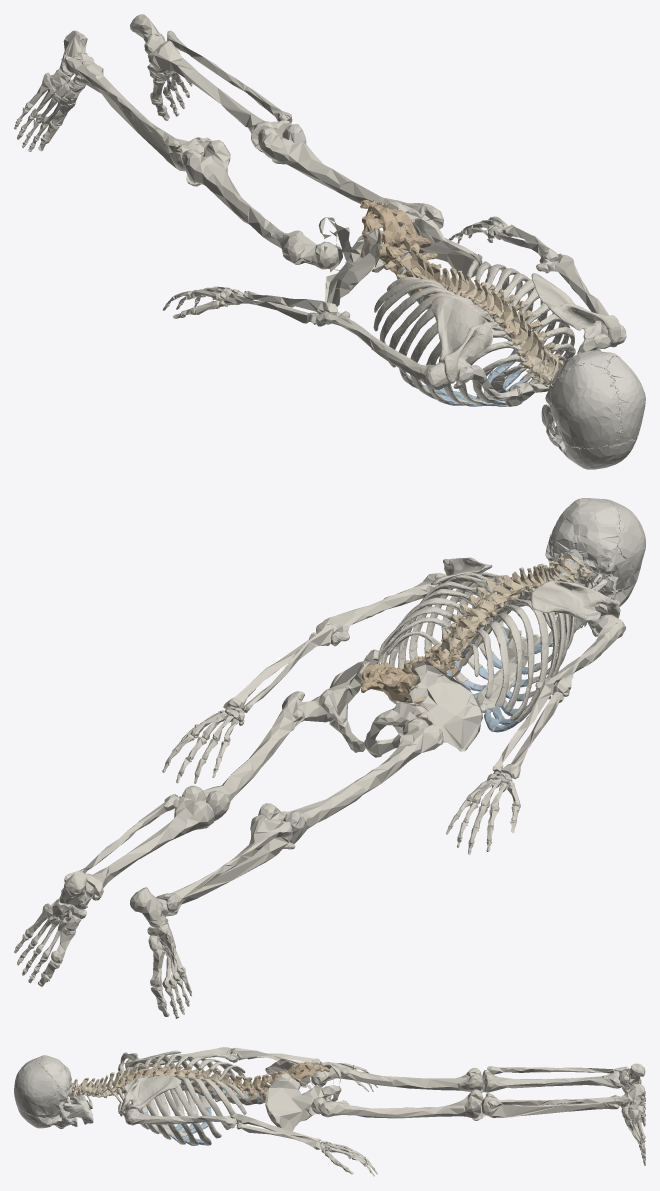
The model's file is skeleton_low.glb.
The picture shows the model from 3 angles, top to bottom: view 1: azimuth 30°, elevation 25°; view 2: azimuth 150°, elevation 25°; view 3: azimuth 270°, elevation 25°; orthographic projection. The views are drawn at different scales.
Parts seen in each view (by area): view 1: cranium, ribs, femur, scapula, hip_bone, tibia, humerus, thoracic_vertebrae, fibula, tarsals, sacrum, metatarsals (+8 smaller); view 2: ribs, femur, hip_bone, cranium, tibia, humerus, scapula, thoracic_vertebrae, tarsals, metatarsals, fibula, hand_phalanges (+9 smaller); view 3: femur, ribs, cranium, tibia, hip_bone, scapula, fibula, humerus, thoracic_vertebrae, tarsals, lumbar_vertebrae, ulna (+10 smaller).
Boxes of the visible parts, x1=… form: cranium: x1=545, y1=350, x2=645, y2=469; ribs: x1=373, y1=260, x2=575, y2=405; femur: x1=182, y1=124, x2=443, y2=269; scapula: x1=431, y1=273, x2=621, y2=388; hip_bone: x1=318, y1=201, x2=482, y2=306; tibia: x1=76, y1=40, x2=291, y2=171; humerus: x1=315, y1=254, x2=626, y2=390; thoracic_vertebrae: x1=439, y1=268, x2=560, y2=367; fibula: x1=64, y1=30, x2=292, y2=154; tarsals: x1=50, y1=14, x2=171, y2=104; sacrum: x1=360, y1=200, x2=431, y2=264; metatarsals: x1=25, y1=71, x2=181, y2=126; ribs: x1=378, y1=572, x2=575, y2=721; femur: x1=182, y1=691, x2=443, y2=843; hip_bone: x1=319, y1=649, x2=482, y2=757; cranium: x1=545, y1=498, x2=645, y2=629; tibia: x1=85, y1=796, x2=292, y2=916; humerus: x1=316, y1=573, x2=625, y2=696; scapula: x1=431, y1=557, x2=620, y2=636; thoracic_vertebrae: x1=440, y1=566, x2=544, y2=668; tarsals: x1=50, y1=871, x2=174, y2=951; metatarsals: x1=25, y1=903, x2=185, y2=988; fibula: x1=64, y1=794, x2=291, y2=912; hand_phalanges: x1=162, y1=727, x2=519, y2=854; femur: x1=311, y1=1062, x2=483, y2=1118; ribs: x1=112, y1=1054, x2=246, y2=1144; cranium: x1=14, y1=1055, x2=77, y2=1129; tibia: x1=481, y1=1070, x2=621, y2=1118; hip_bone: x1=265, y1=1059, x2=341, y2=1131; scapula: x1=120, y1=1050, x2=181, y2=1116; fibula: x1=487, y1=1066, x2=629, y2=1108; humerus: x1=125, y1=1047, x2=238, y2=1128; thoracic_vertebrae: x1=110, y1=1064, x2=230, y2=1100; tarsals: x1=619, y1=1063, x2=645, y2=1125; lumbar_vertebrae: x1=226, y1=1071, x2=280, y2=1105; ulna: x1=230, y1=1047, x2=321, y2=1141.
Bounding box in the file's own units: 648 × 254 × 1707.
